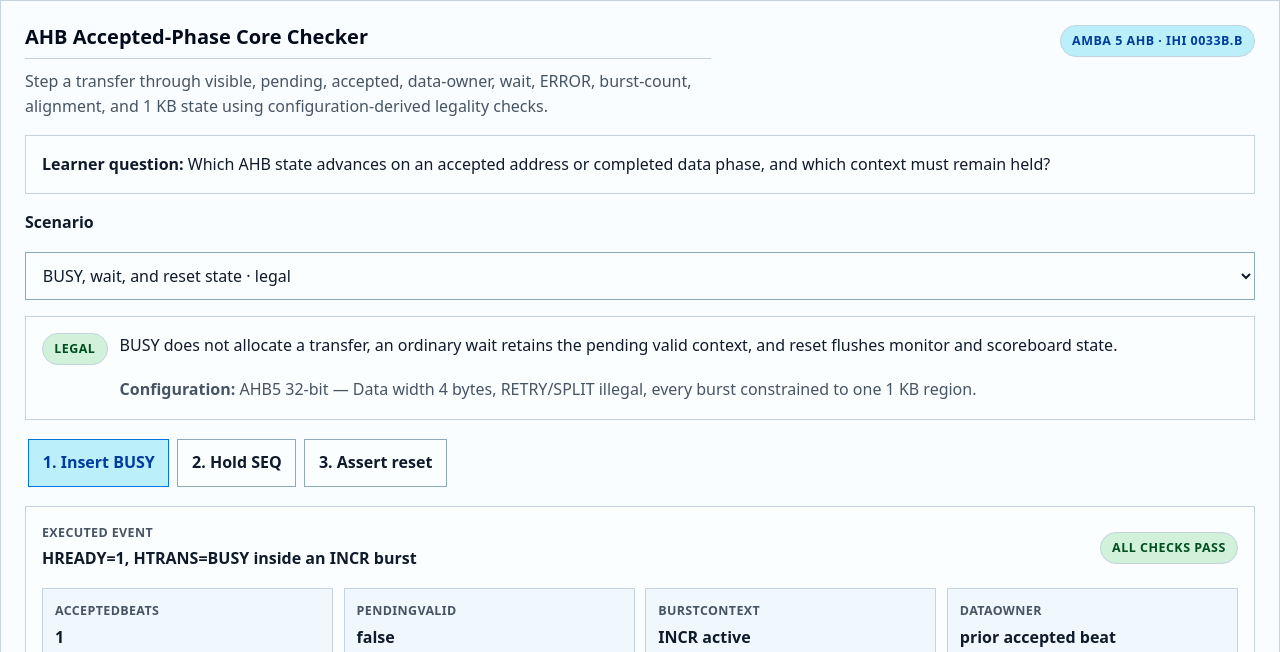
CheckerModel › supports direct keyboard step selection and labels selected state
The width and height of the screenshot is (1280, 652).
Select "Legal waited INCR4 · legal" in the dropdown labelled "Scenario" at (640, 276), box x1=25 y1=252 x2=1255 y2=300
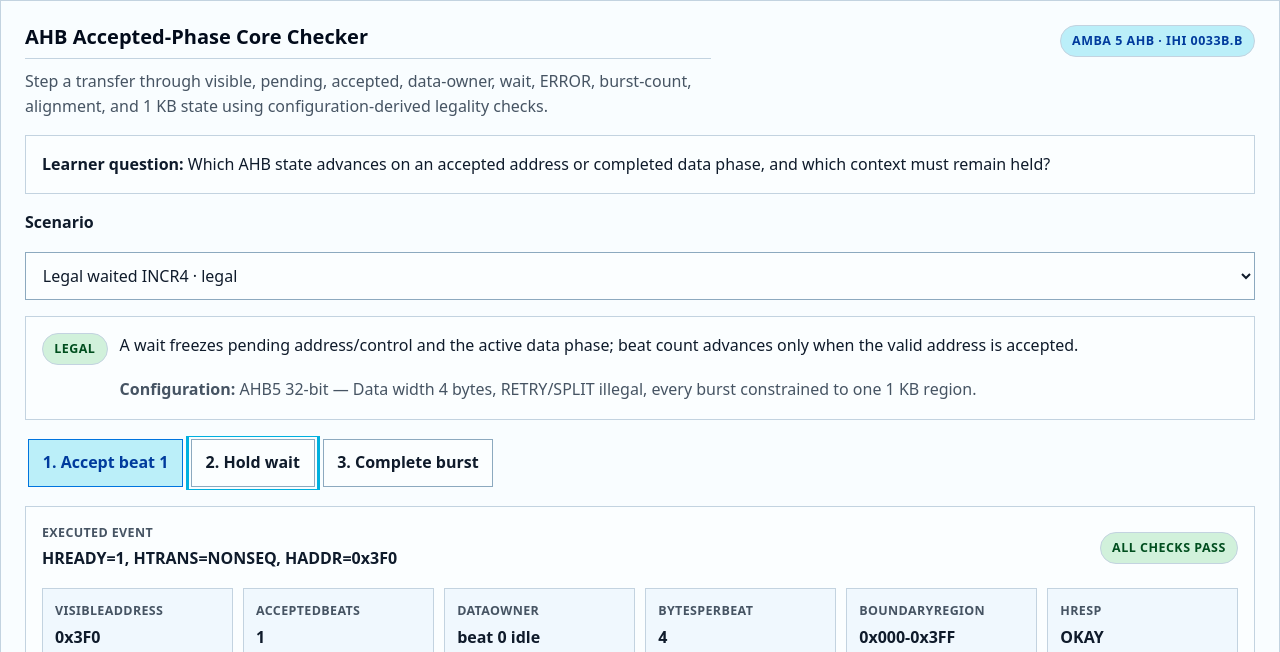
Type keys " "
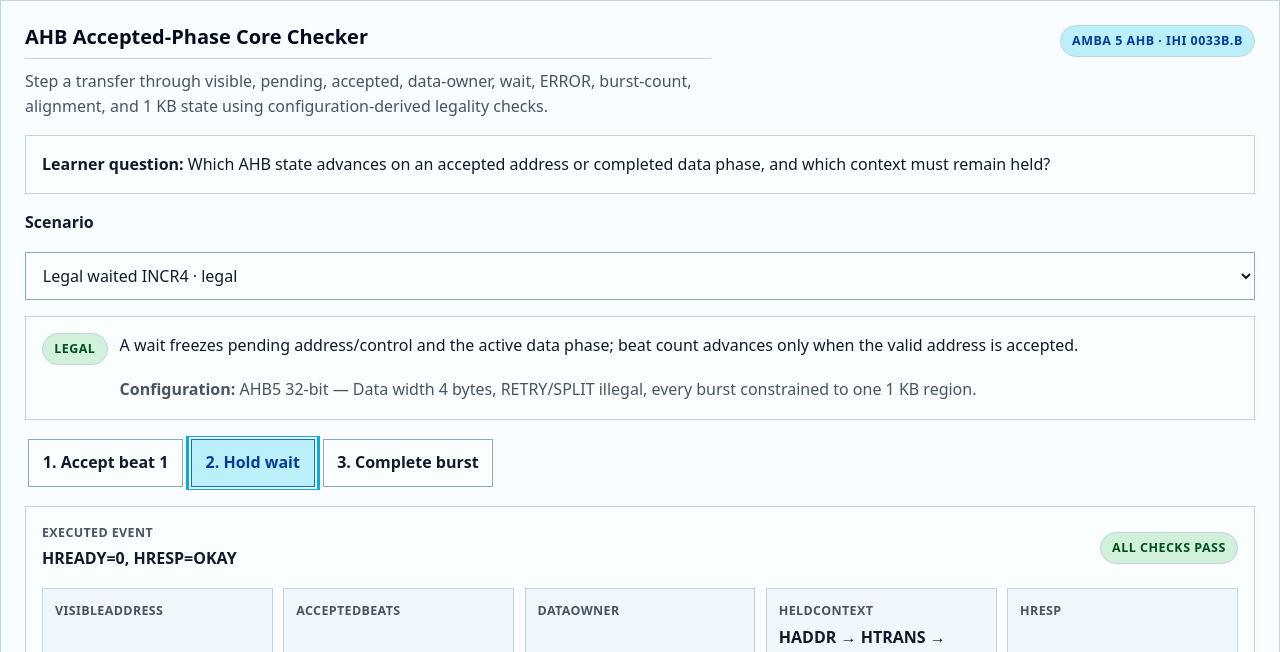
Check: the text "HREADY=0, HRESP=OKAY" is shown, box x1=42 y1=546 x2=237 y2=572
